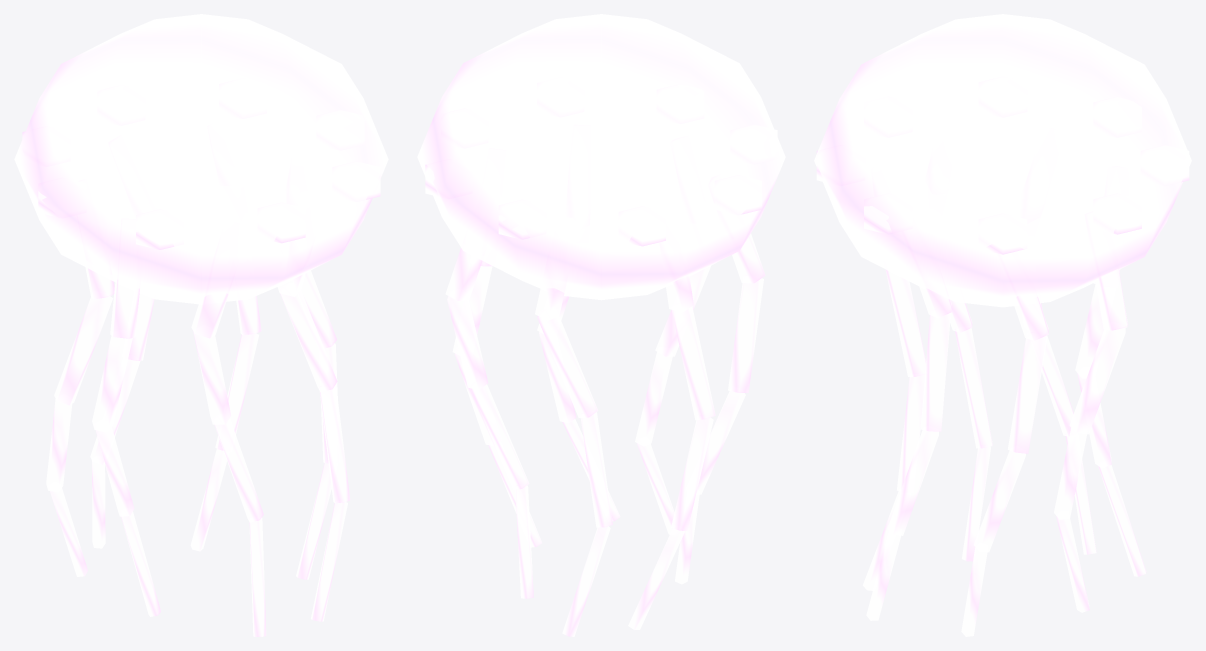
The model's file is xy_beach_jelly.glb.
3 views of the same model, side by side, from view 1: azimuth 30°, elevation 25°; view 2: azimuth 150°, elevation 25°; view 3: azimuth 270°, elevation 25° (orthographic). The views are drawn at different scales.
Visible parts, largest first — view 1: Jelly; view 2: Jelly; view 3: Jelly.
Boxes of the visible parts, box(x1,y1,x2,y2) form: Jelly: box(14, 14, 388, 636); Jelly: box(417, 14, 785, 636); Jelly: box(814, 14, 1191, 636).
Bounding box in the file's own units: 1.41 × 2.27 × 1.4.
